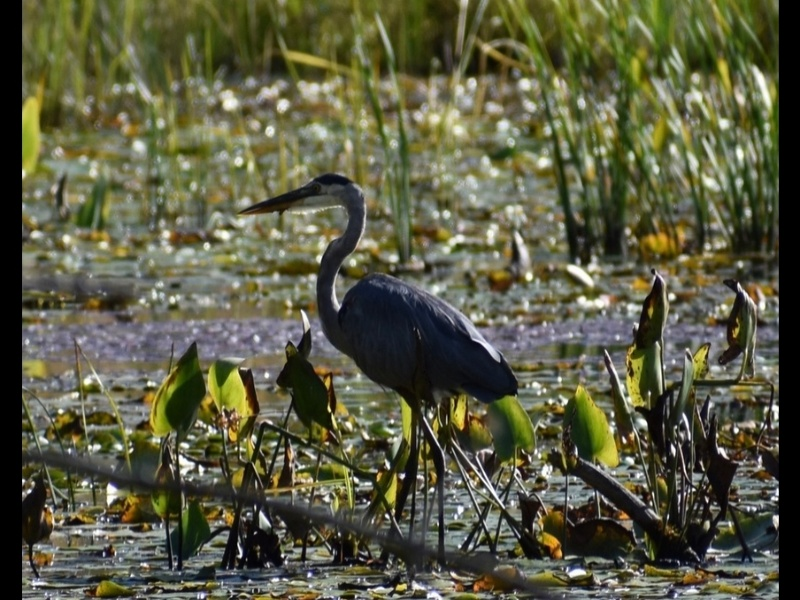heron: (232, 171, 524, 538)
